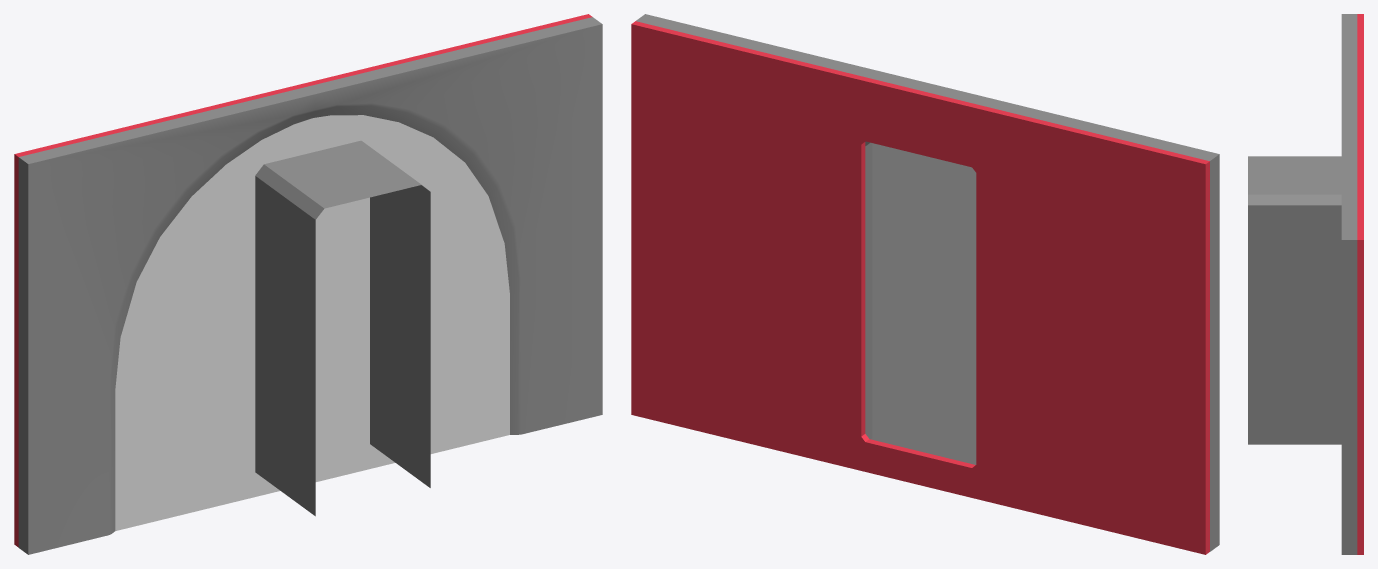
The model's file is doorway_Large_C_outline.FBX.
The picture shows the model from 3 angles, left to right: view 1: azimuth 30°, elevation 25°; view 2: azimuth 150°, elevation 25°; view 3: azimuth 270°, elevation 25°; orthographic projection. The views are drawn at different scales.
Visible parts, largest first — view 1: doorway_Large_C_A, doorway_Large_C_Pattern, doorway_Large_C_godrays, doorway_Large_C_B; view 2: doorway_Large_C_B, doorway_Large_C_Pattern, doorway_Large_C_A, doorway_Large_C_godrays; view 3: doorway_Large_C_godrays, doorway_Large_C_A, doorway_Large_C_B.
Part boxes in pixels (<box>): doorway_Large_C_A: <box>18,17,602,554</box>; doorway_Large_C_Pattern: <box>115,115,509,530</box>; doorway_Large_C_godrays: <box>255,140,430,516</box>; doorway_Large_C_B: <box>14,14,592,547</box>; doorway_Large_C_B: <box>631,21,1209,554</box>; doorway_Large_C_Pattern: <box>871,143,976,464</box>; doorway_Large_C_A: <box>636,14,1219,551</box>; doorway_Large_C_godrays: <box>865,142,872,439</box>; doorway_Large_C_godrays: <box>1248,156,1341,444</box>; doorway_Large_C_A: <box>1341,14,1357,554</box>; doorway_Large_C_B: <box>1357,14,1363,554</box>.
Size of the model in its own units: 999 by 650 by 216.
